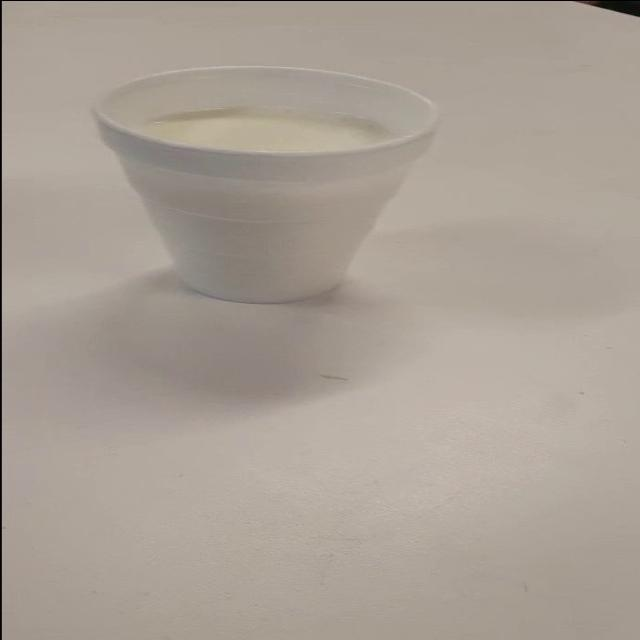Milk: (73, 52, 475, 338)
